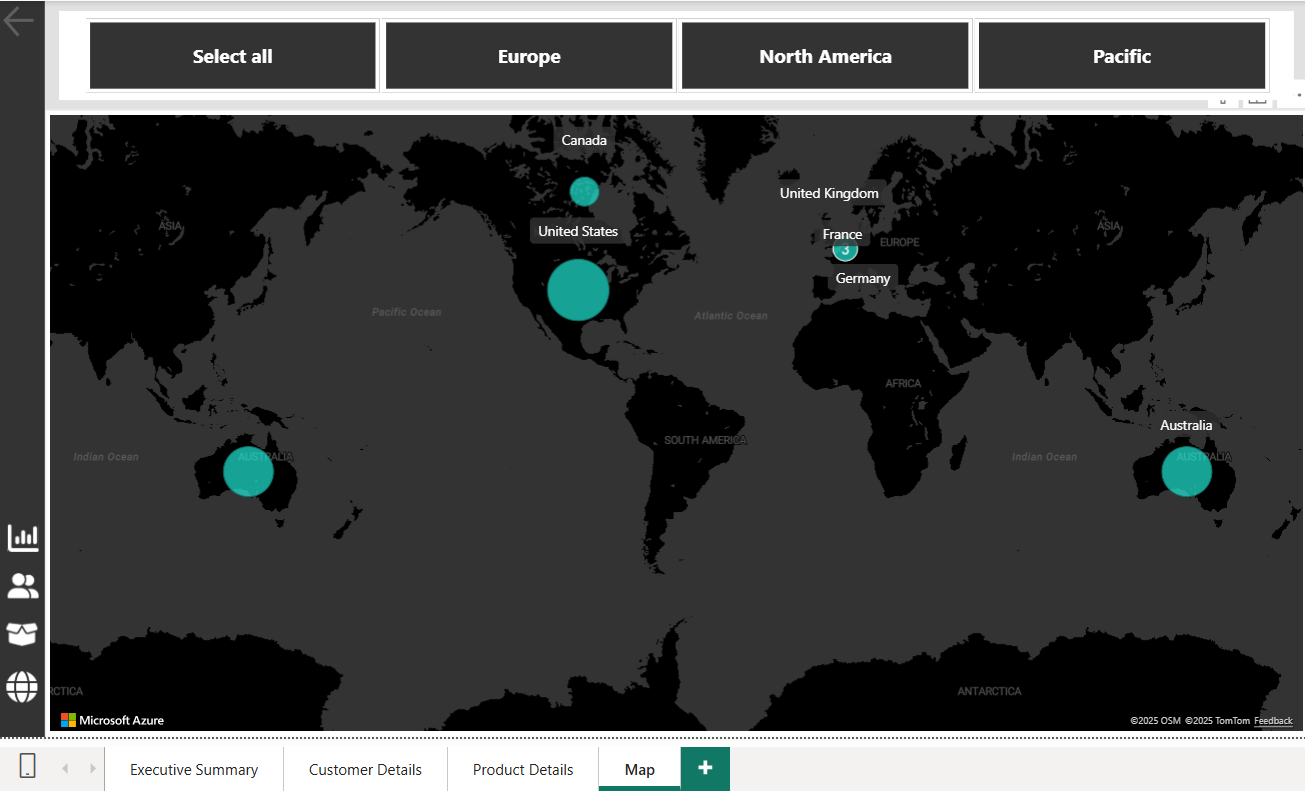

The page's visual inventory and layout, read from the dashboard file:
{"tool":"powerbi","page":{"name":"Map","canvas":[1280,720],"ordinal":3},"visuals":[{"type":"shape","box":[0,0,45,720],"z":0},{"type":"actionButton","box":[1.2,506,44.8,38.6],"z":0,"group":"g1"},{"type":"azureMap","fields":{"Category":["DimTerritory.Country"],"Size":["_Measures.Total Orders"]},"box":[44.8,107,1235.3,613.3],"z":1000},{"type":"actionButton","box":[1.2,552,44.8,38.6],"z":1000,"group":"g1"},{"type":"slicer","fields":{"Values":["DimTerritory.Continent"]},"box":[58.5,10,1207.9,87.1],"z":2000},{"type":"actionButton","box":[0,600.5,44.8,38.6],"z":2000,"group":"g1"},{"type":"actionButton","box":[0,0,44.8,39.8],"z":3000},{"type":"actionButton","box":[0,651.5,44.8,38.6],"z":3000,"group":"g1"},{"type":"group","id":"g1","title":"Group 1","box":[0,506,46,184.1],"z":4000}]}

Visuals, with their boxes in screenshot pixels (x1, y1, x2, y2):
shape: [0,7,45,731]
actionButton: [1,516,46,554]
azureMap - DimTerritory.Country x _Measures.Total Orders: [45,114,1287,731]
actionButton: [1,562,46,601]
slicer - DimTerritory.Continent: [59,17,1273,104]
actionButton: [0,611,45,649]
actionButton: [0,7,45,47]
actionButton: [0,662,45,701]
"Group 1" group: [0,516,46,701]
